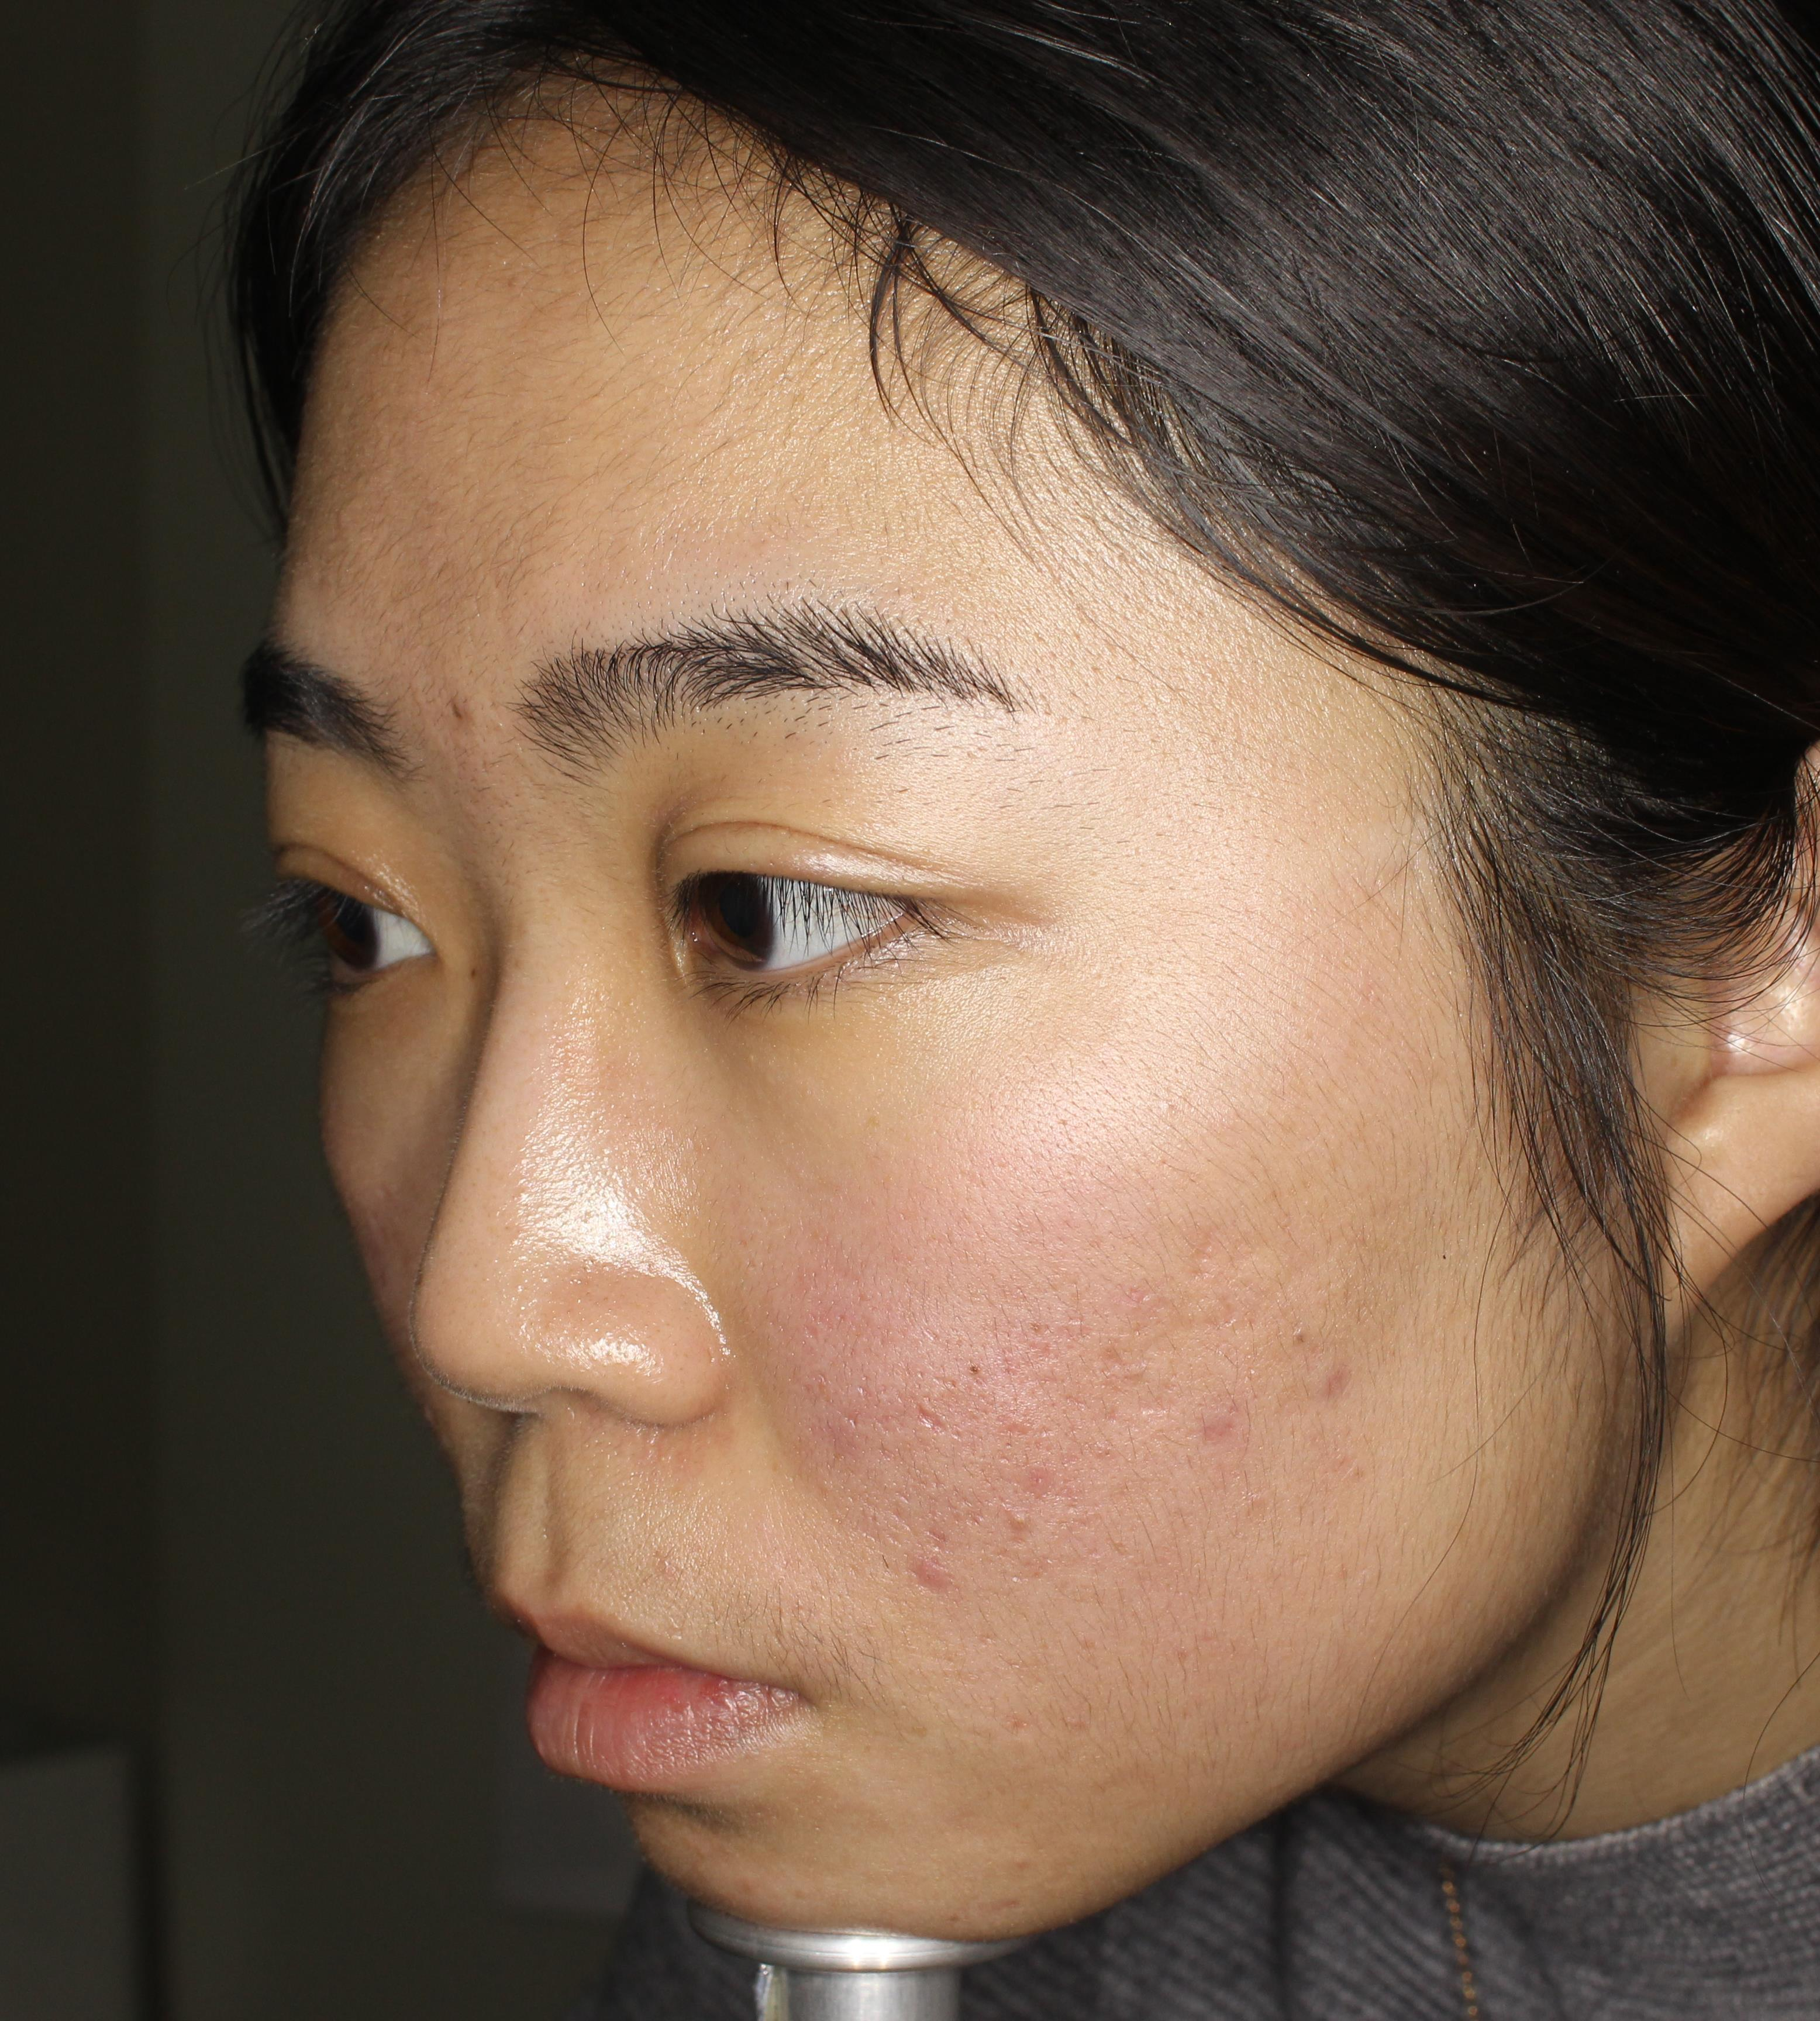fore: (1184, 1387, 1279, 1468), (898, 1536, 964, 1626), (430, 665, 508, 743)
